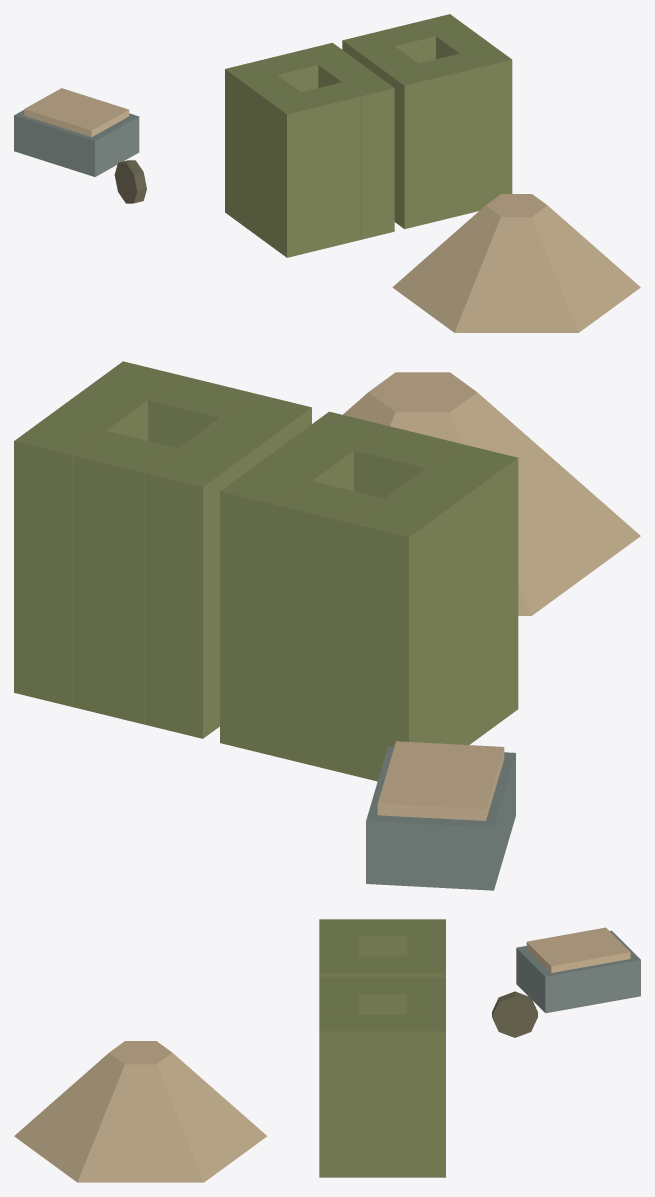
File: SM_ObraHescoAbierto_v4_8m_LOD1.fbx
3 renders of one model, top to bottom at view 1: azimuth 30°, elevation 25°; view 2: azimuth 150°, elevation 25°; view 3: azimuth 270°, elevation 25°, orthographic. The views are drawn at different scales.
Visible parts, largest first — view 1: SM_obra_curso_v28_LOD1; view 2: SM_obra_curso_v28_LOD1; view 3: SM_obra_curso_v28_LOD1.
Boxes of the visible parts, x1=… form: SM_obra_curso_v28_LOD1: x1=14, y1=14, x2=640, y2=332; SM_obra_curso_v28_LOD1: x1=14, y1=361, x2=640, y2=890; SM_obra_curso_v28_LOD1: x1=14, y1=919, x2=640, y2=1182.
Size of the model in its own units: 3.73 by 1.4 by 5.44.
